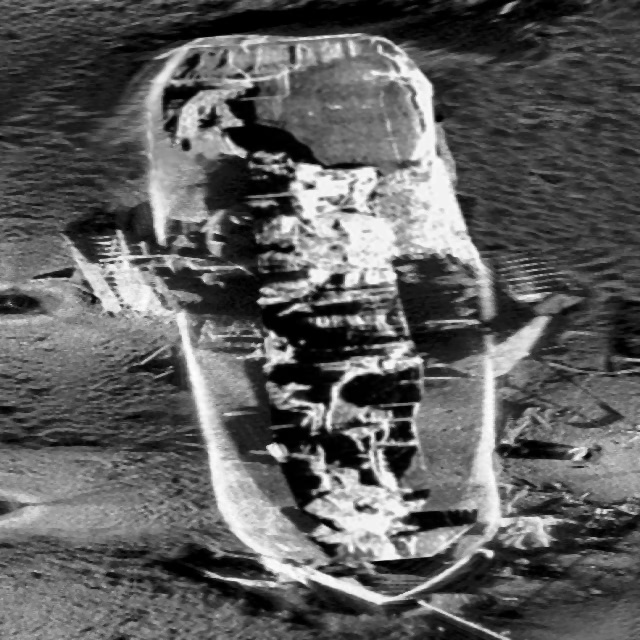Ship: (93, 21, 595, 640)
